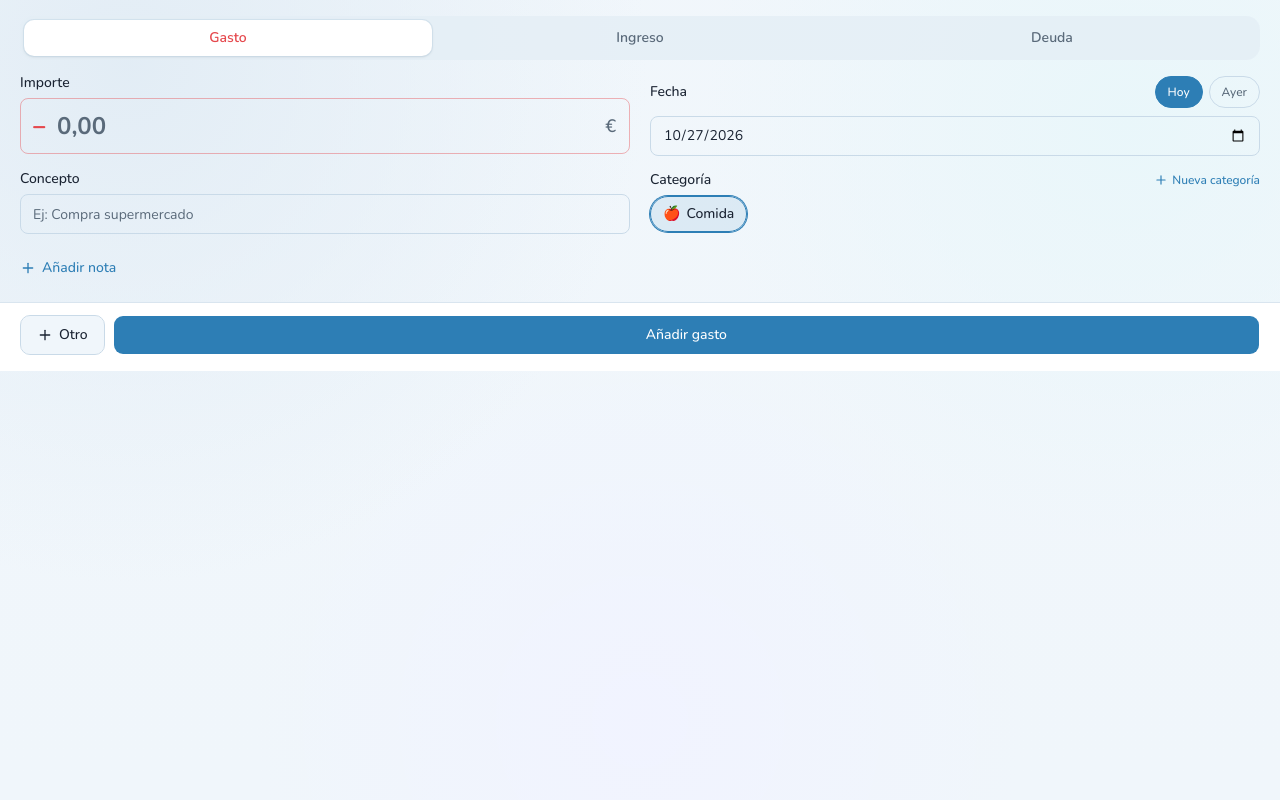
Test: ExpenseForm duplicate check › asks in an in-app dialog (not window.confirm) and aborts on cancel
Type "12.5" into the field labelled "Importe" at (325, 126), box [20,98,630,154]
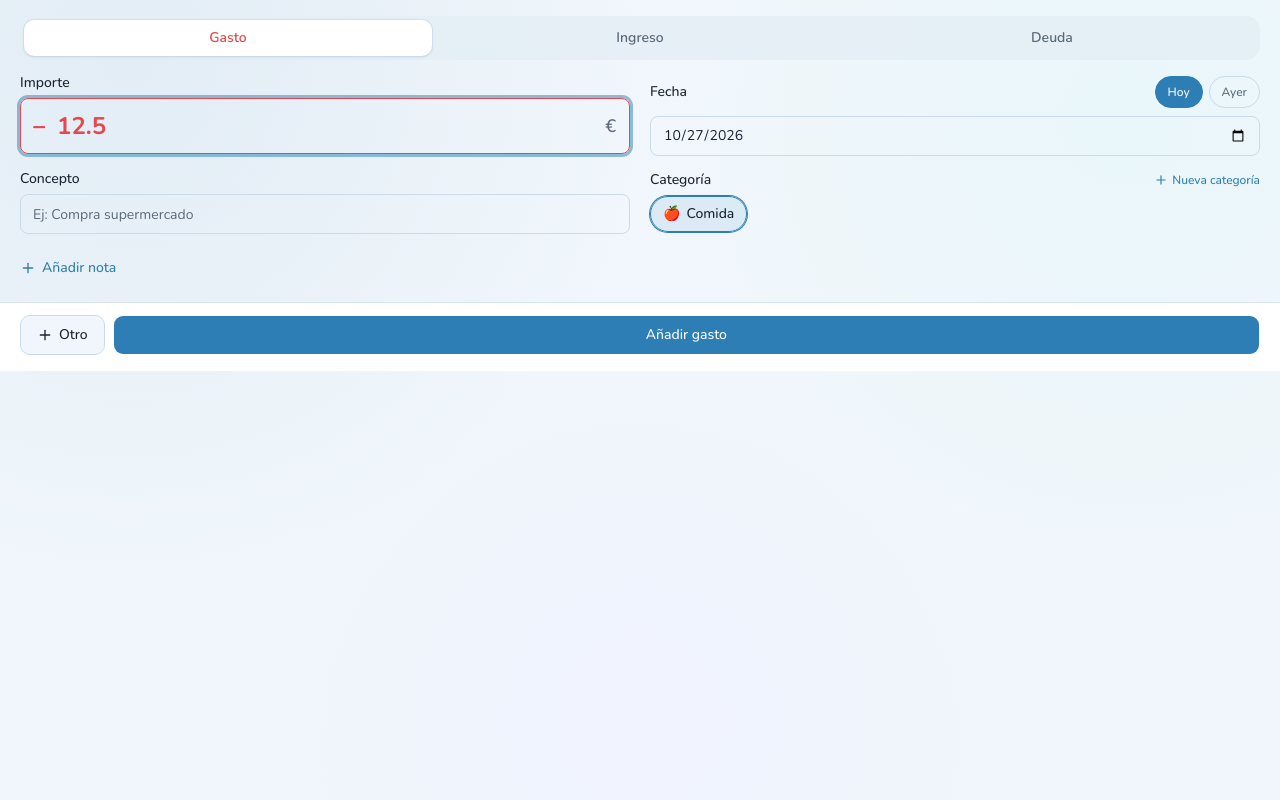
Click the button "Añadir gasto" at (686, 335), box [113,315,1260,355]
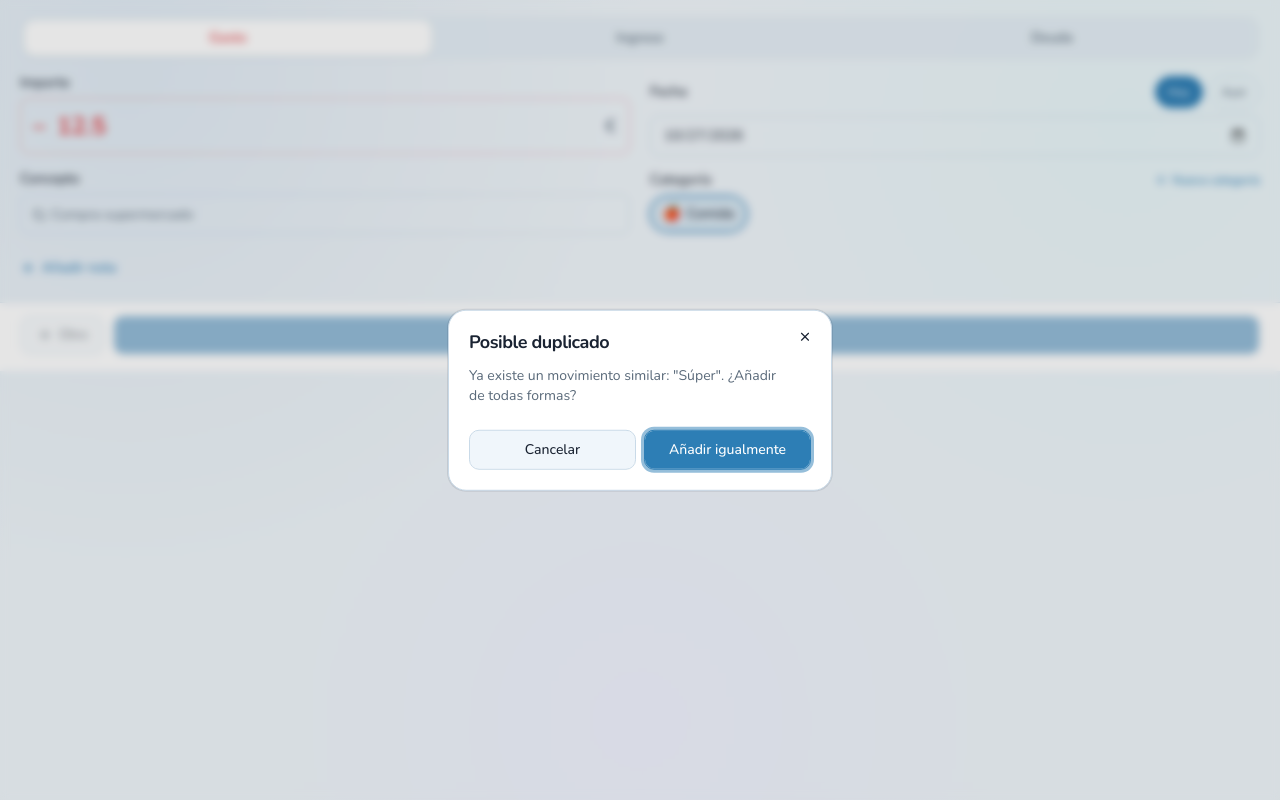
Expected: the heading "Posible duplicado" is shown, [469,330,609,354]
Expected: the text "Ya existe un movimiento similar: \"Súper\"" is shown, [469,365,776,404]
Click the button "Cancelar" at (552, 449), box [469,429,636,469]
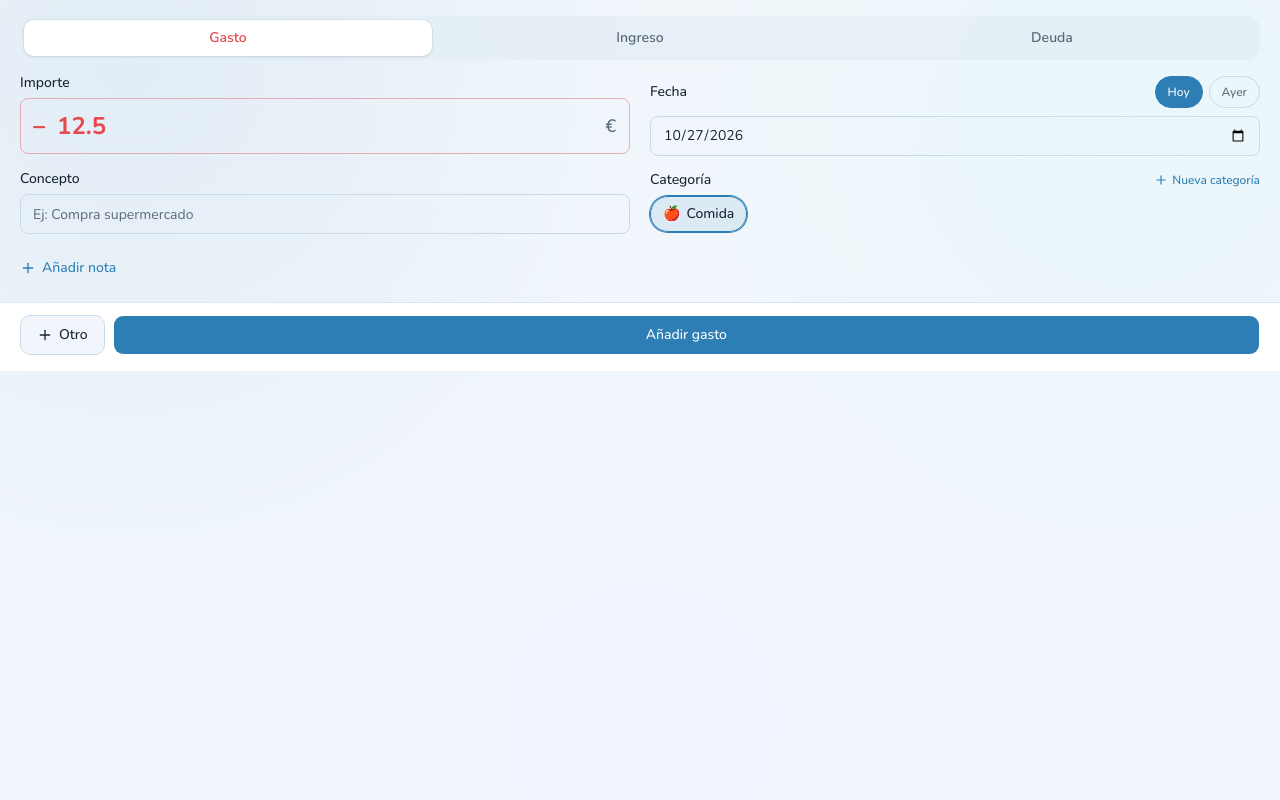
Expected: the heading "Posible duplicado" is gone
